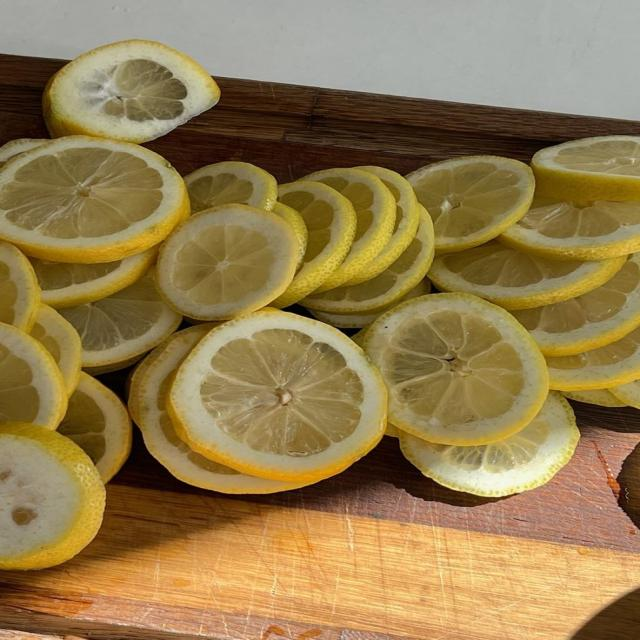lemon: (167, 310, 386, 482), (129, 324, 304, 493), (365, 293, 548, 445), (0, 136, 189, 262), (400, 392, 579, 497), (43, 40, 219, 142), (157, 205, 299, 320), (0, 422, 105, 569), (300, 209, 433, 315), (429, 241, 626, 309), (512, 254, 639, 356), (407, 156, 533, 253), (60, 271, 181, 367), (304, 169, 396, 291), (271, 181, 356, 307), (127, 322, 220, 424), (344, 166, 419, 285), (500, 197, 639, 259), (57, 373, 132, 483), (31, 248, 157, 308), (0, 323, 67, 429), (532, 136, 639, 201), (309, 278, 430, 328), (547, 329, 639, 391), (185, 162, 277, 213), (31, 305, 81, 395), (0, 241, 40, 331), (273, 202, 308, 270), (0, 139, 48, 168), (83, 354, 144, 376), (562, 389, 626, 407), (608, 381, 639, 408), (351, 328, 366, 347), (385, 422, 400, 438)
